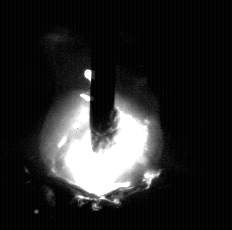arame: (91, 0, 118, 150)
poca: (38, 0, 164, 230)
